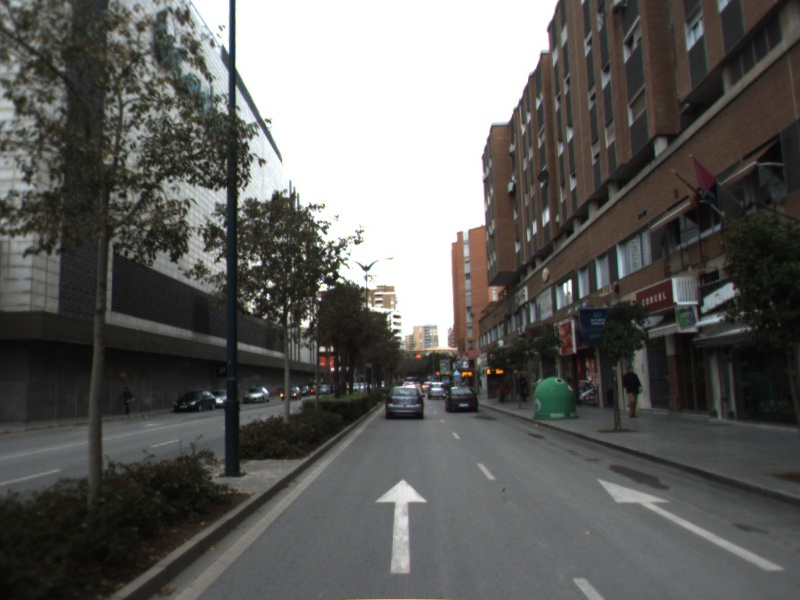STRAIGHT: (594, 475, 786, 573), (371, 477, 431, 577)
